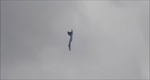maybay_muctieu: (67, 27, 73, 52)
